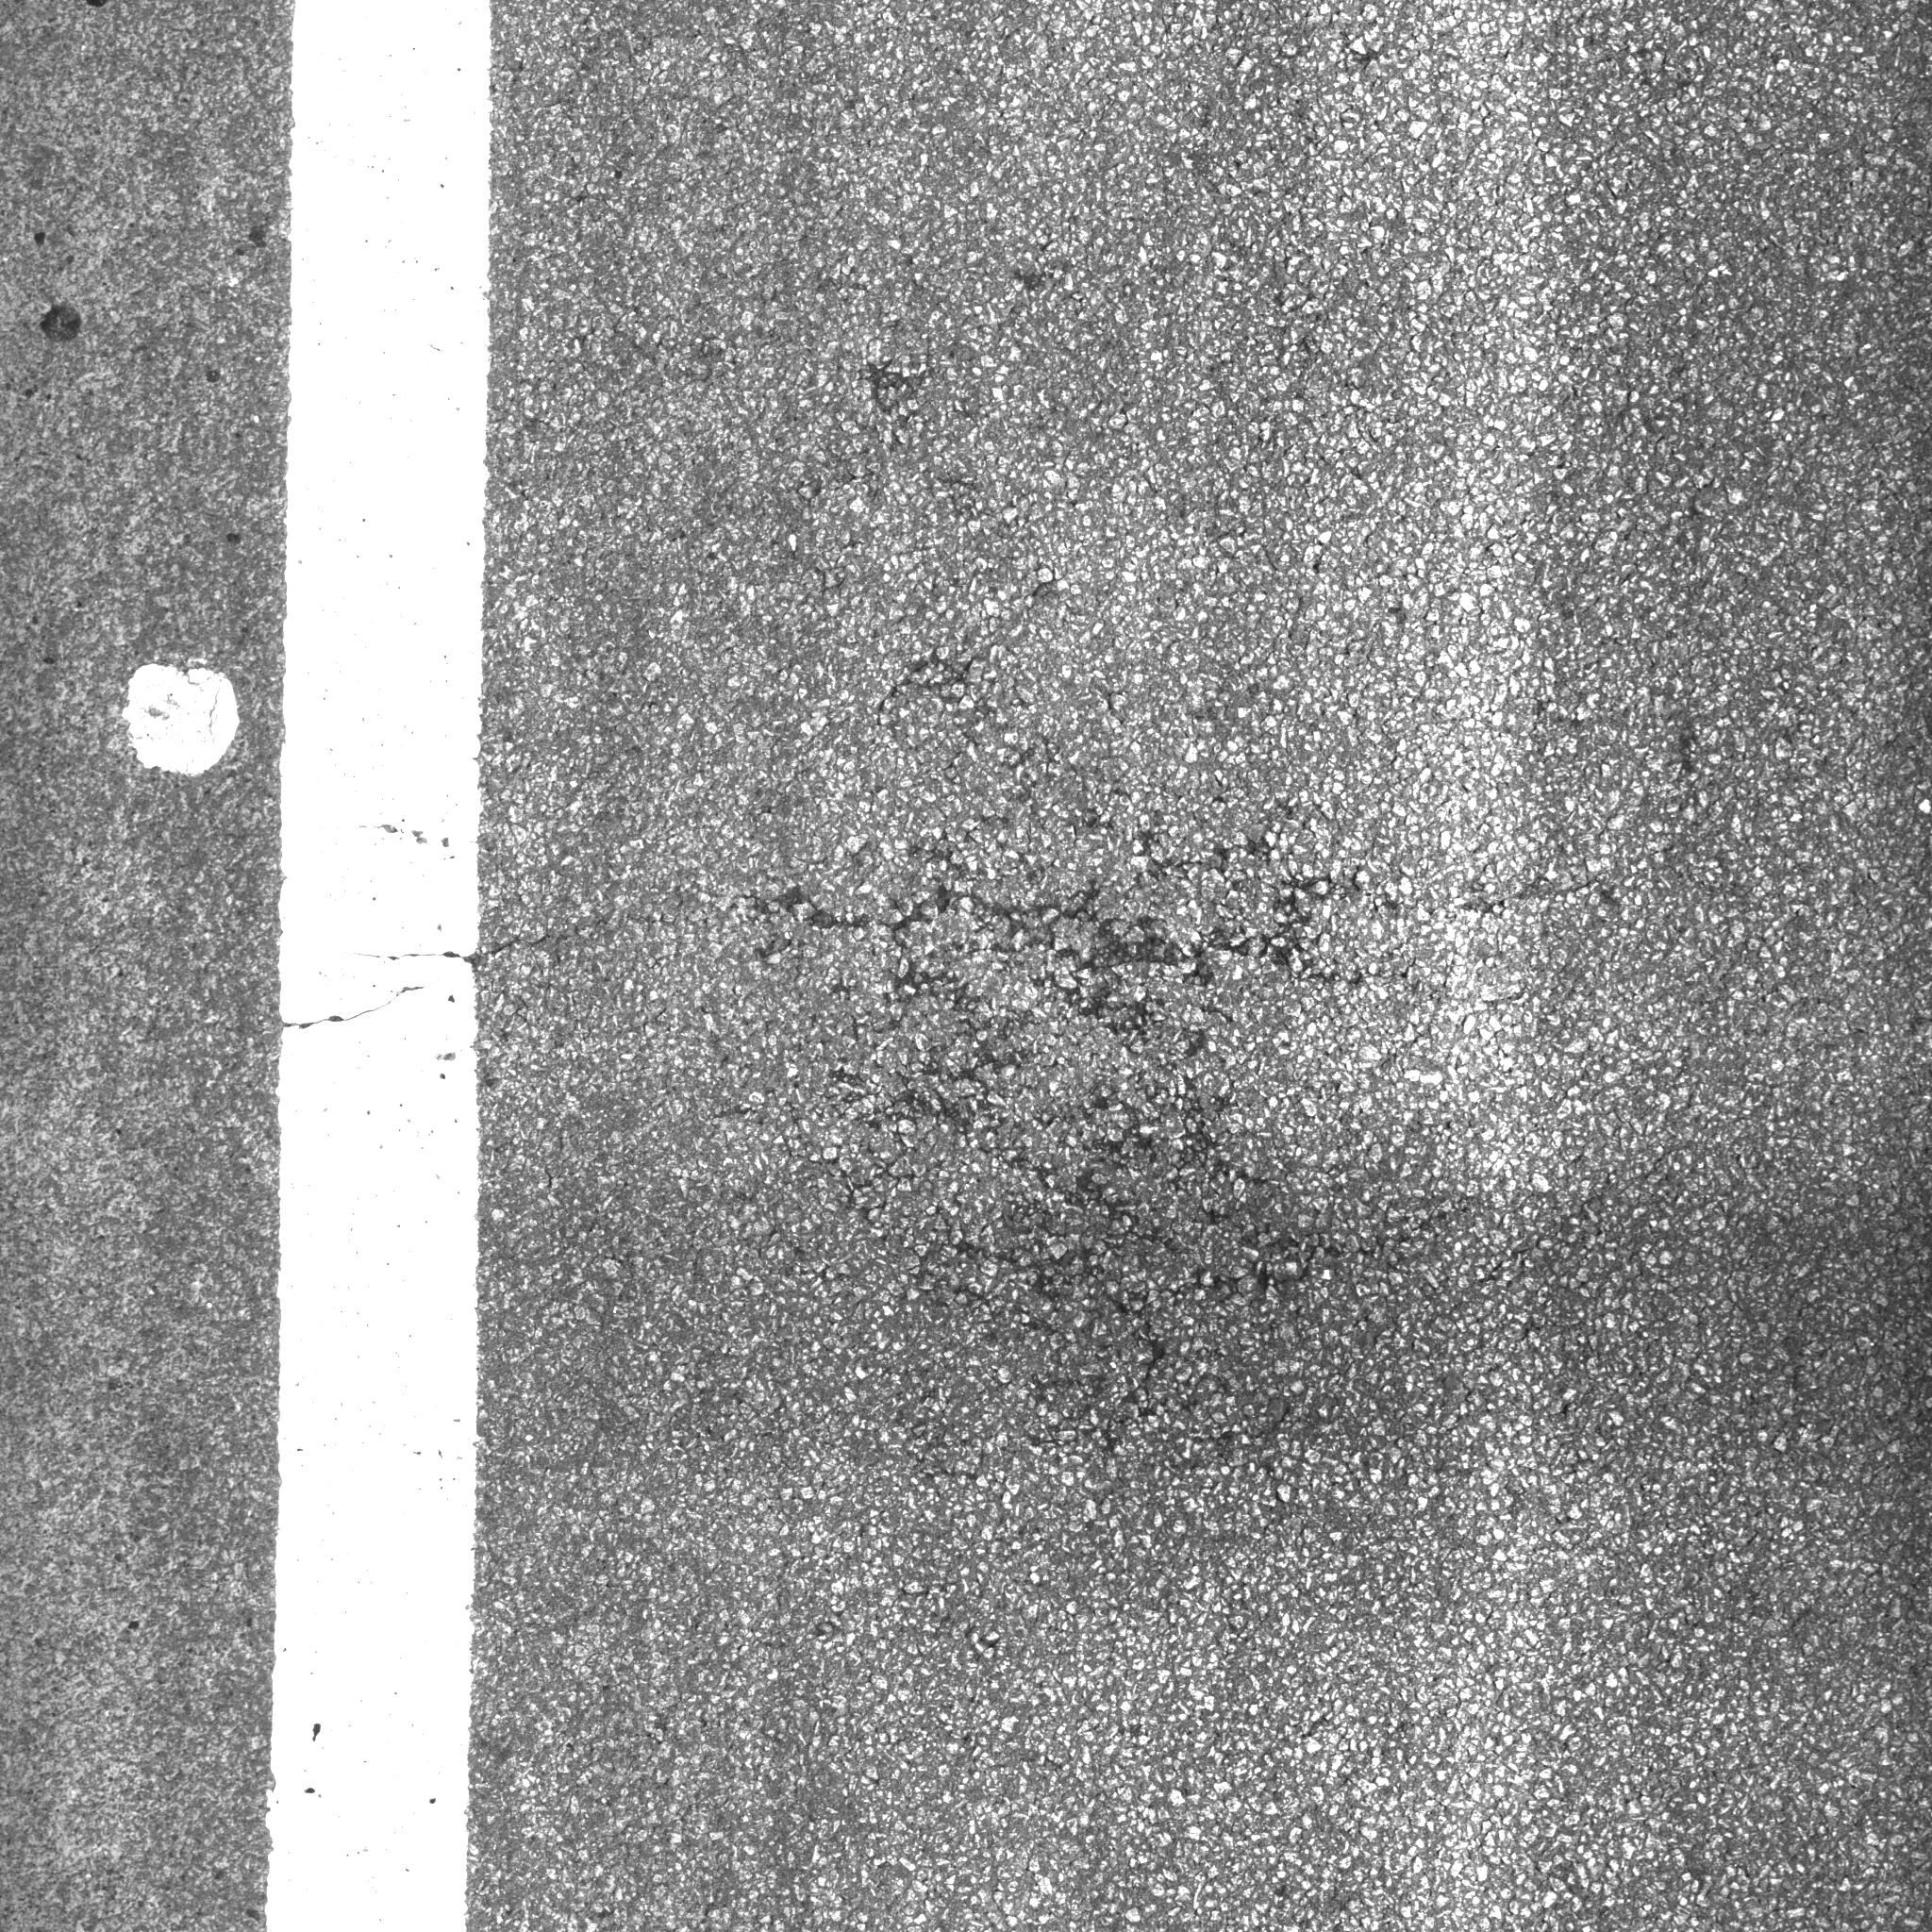transeverse: (276, 876, 1327, 1083)
